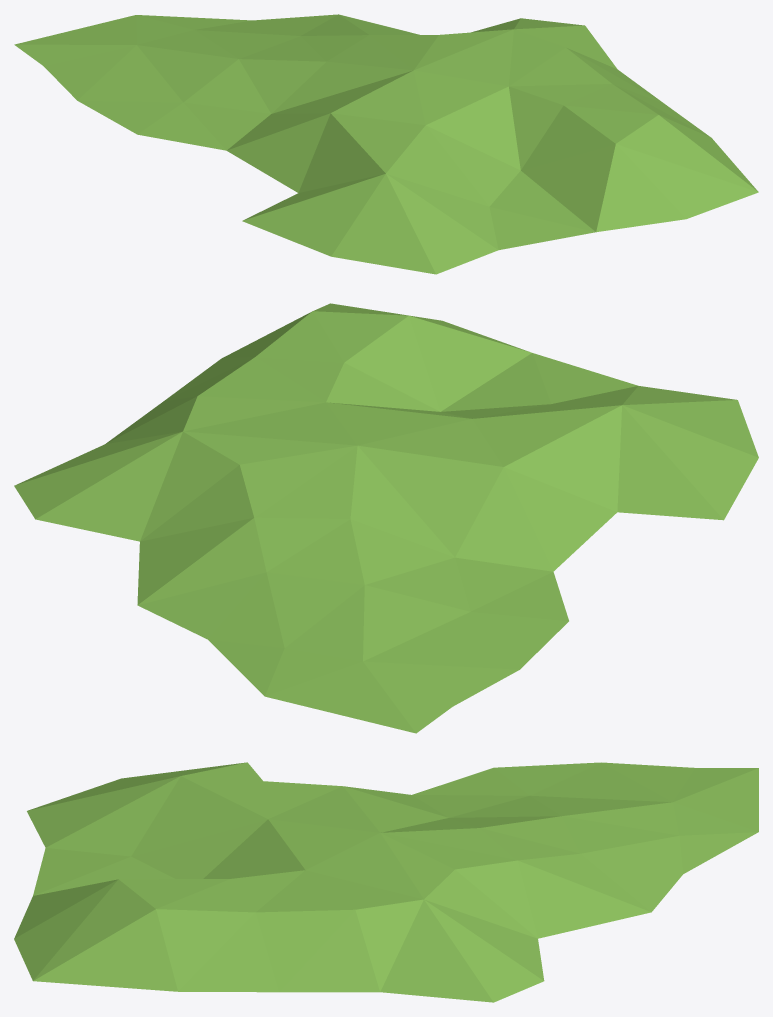
File: MT_Mountain_S_c_14.fbx
3 views of the same model, one above another, from view 1: azimuth 30°, elevation 25°; view 2: azimuth 150°, elevation 25°; view 3: azimuth 270°, elevation 25° (orthographic). The views are drawn at different scales.
Parts seen in each view (by area): view 1: MT_Mountain_S_c_14; view 2: MT_Mountain_S_c_14; view 3: MT_Mountain_S_c_14.
Part boxes in pixels (box(x1,y1,x2,y2)): MT_Mountain_S_c_14: box(14, 14, 758, 274); MT_Mountain_S_c_14: box(14, 303, 758, 733); MT_Mountain_S_c_14: box(14, 762, 758, 1002).
Bounding box in the file's own units: 1781 × 182 × 2335.
